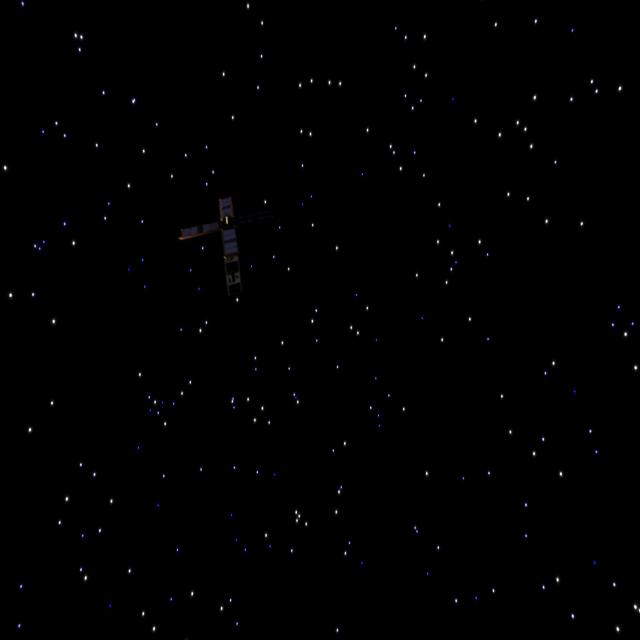satellite: (175, 186, 269, 304)
